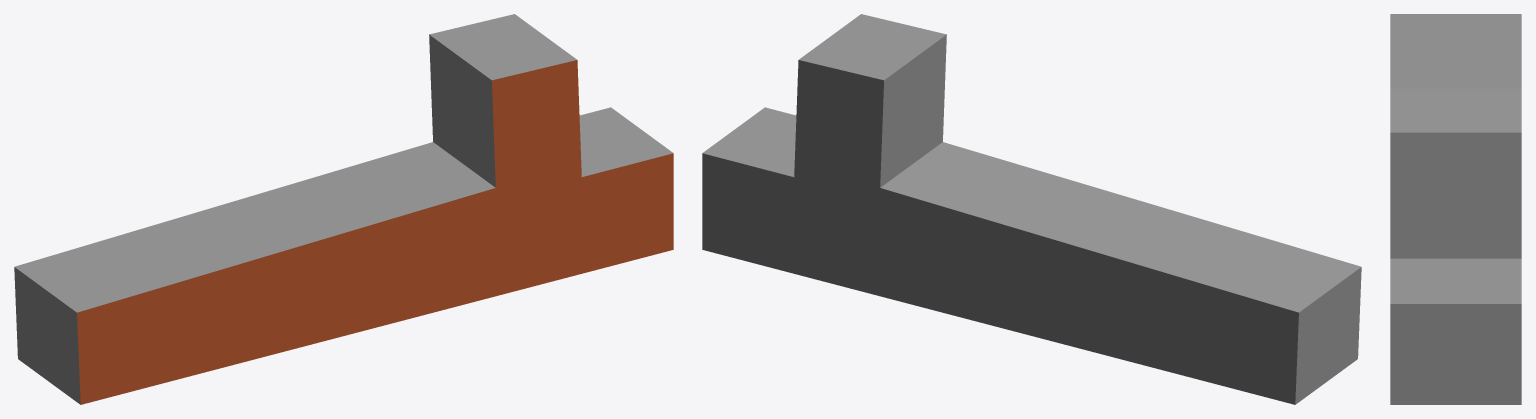
The model's file is construction_6447_assumed_A_Casa_h6m.obj.
3 renders of one model, left to right at view 1: azimuth 30°, elevation 25°; view 2: azimuth 150°, elevation 25°; view 3: azimuth 270°, elevation 25°, orthographic. The views are drawn at different scales.
Visible parts, largest first — view 1: construction_6447_assumed_A_Casa; view 2: construction_6447_assumed_A_Casa; view 3: construction_6447_assumed_A_Casa.
Boxes of the visible parts, box(x1,y1,x2,y2) form: construction_6447_assumed_A_Casa: box(14, 14, 673, 404); construction_6447_assumed_A_Casa: box(702, 14, 1361, 404); construction_6447_assumed_A_Casa: box(1390, 14, 1521, 404).
Size of the model in its own units: 32.95 by 11.84 by 6.
